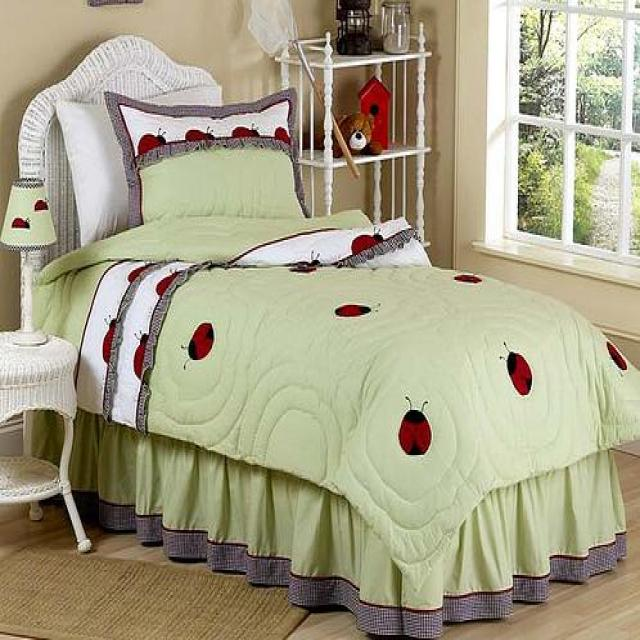bed: (16, 25, 638, 638)
table: (0, 327, 93, 553)
